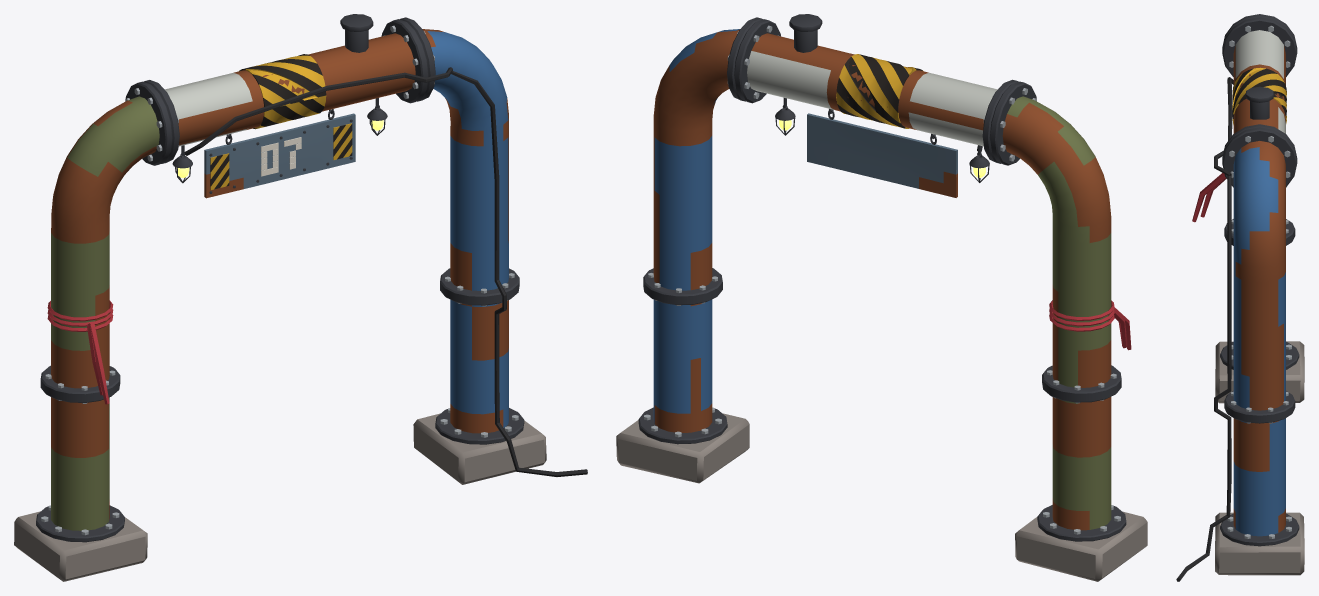
File: deco_salvage_pipe_arch.fbx
3 renders of one model, left to right at view 1: azimuth 30°, elevation 25°; view 2: azimuth 150°, elevation 25°; view 3: azimuth 270°, elevation 25°, orthographic. The views are drawn at different scales.
Parts seen in each view (by area): view 1: Salvage_PipeArch_PipeL, Salvage_PipeArch_PipeR, Salvage_PipeArch_Crown, Salvage_PipeArch_Sign; view 2: Salvage_PipeArch_PipeL, Salvage_PipeArch_PipeR, Salvage_PipeArch_Crown, Salvage_PipeArch_Sign; view 3: Salvage_PipeArch_PipeR, Salvage_PipeArch_Crown, Salvage_PipeArch_PipeL.
Boxes of the visible parts, bbox=[...] form: Salvage_PipeArch_PipeL: bbox=[14, 81, 172, 581]; Salvage_PipeArch_PipeR: bbox=[400, 17, 546, 484]; Salvage_PipeArch_Crown: bbox=[144, 14, 587, 476]; Salvage_PipeArch_Sign: bbox=[204, 109, 355, 198]; Salvage_PipeArch_PipeL: bbox=[989, 81, 1147, 581]; Salvage_PipeArch_PipeR: bbox=[616, 17, 762, 483]; Salvage_PipeArch_Crown: bbox=[734, 14, 1018, 182]; Salvage_PipeArch_Sign: bbox=[807, 109, 957, 197]; Salvage_PipeArch_PipeR: bbox=[1215, 127, 1304, 575]; Salvage_PipeArch_Crown: bbox=[1176, 17, 1297, 581]; Salvage_PipeArch_PipeL: bbox=[1192, 14, 1304, 403].
Size of the model in its own units: 493 by 437 by 123.
